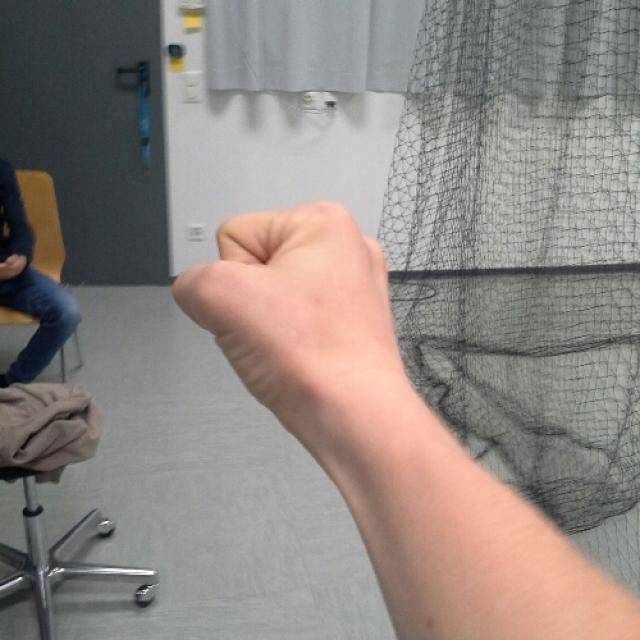rock: (176, 200, 397, 428)
